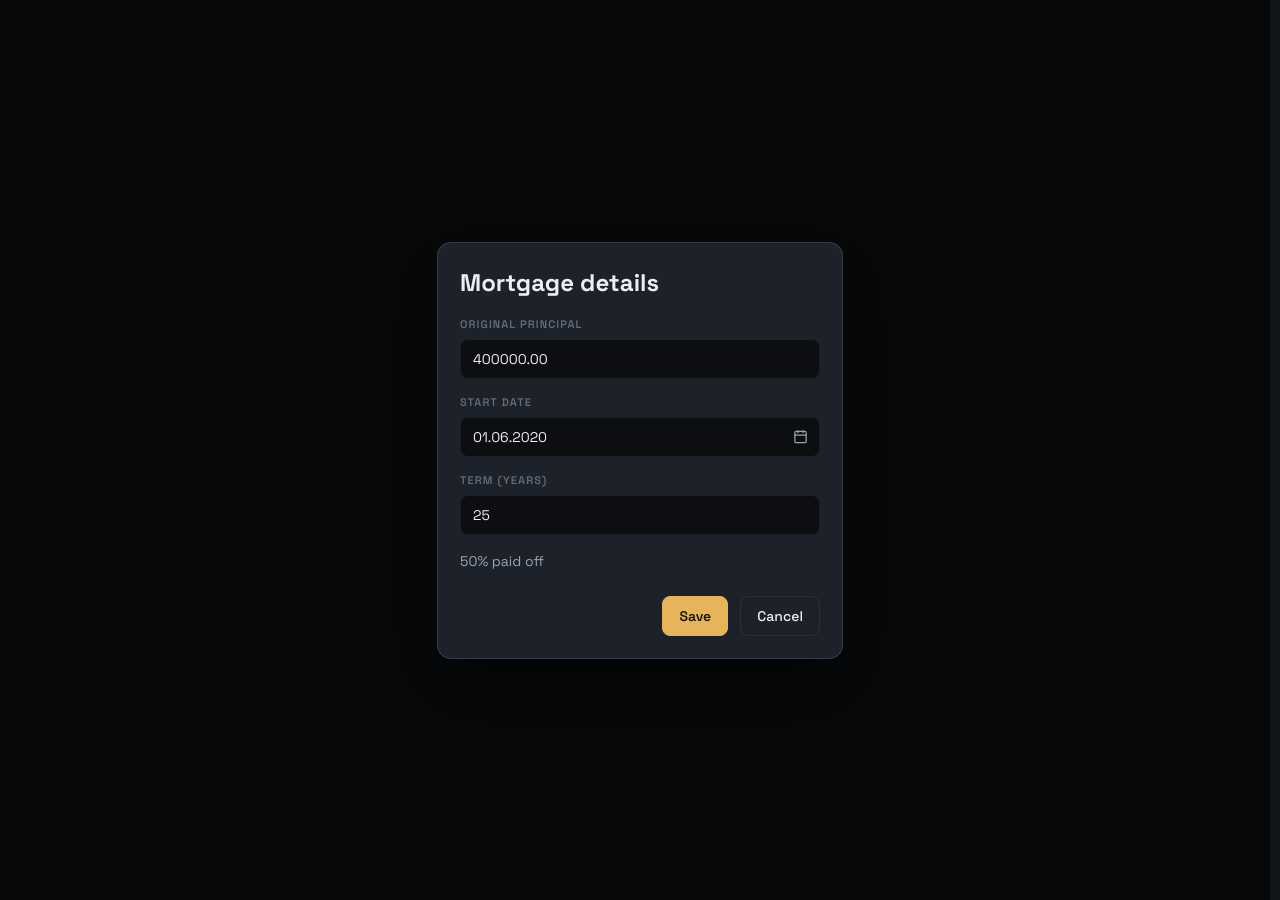
Test: MortgageModal — live percentage preview › updates the preview live as the principal changes
# principal 800k, Restschuld 200k → 75% paid off.
Replace the text in the number field labelled "Original principal" with "800000" at (640, 358), box [460,338,820,378]
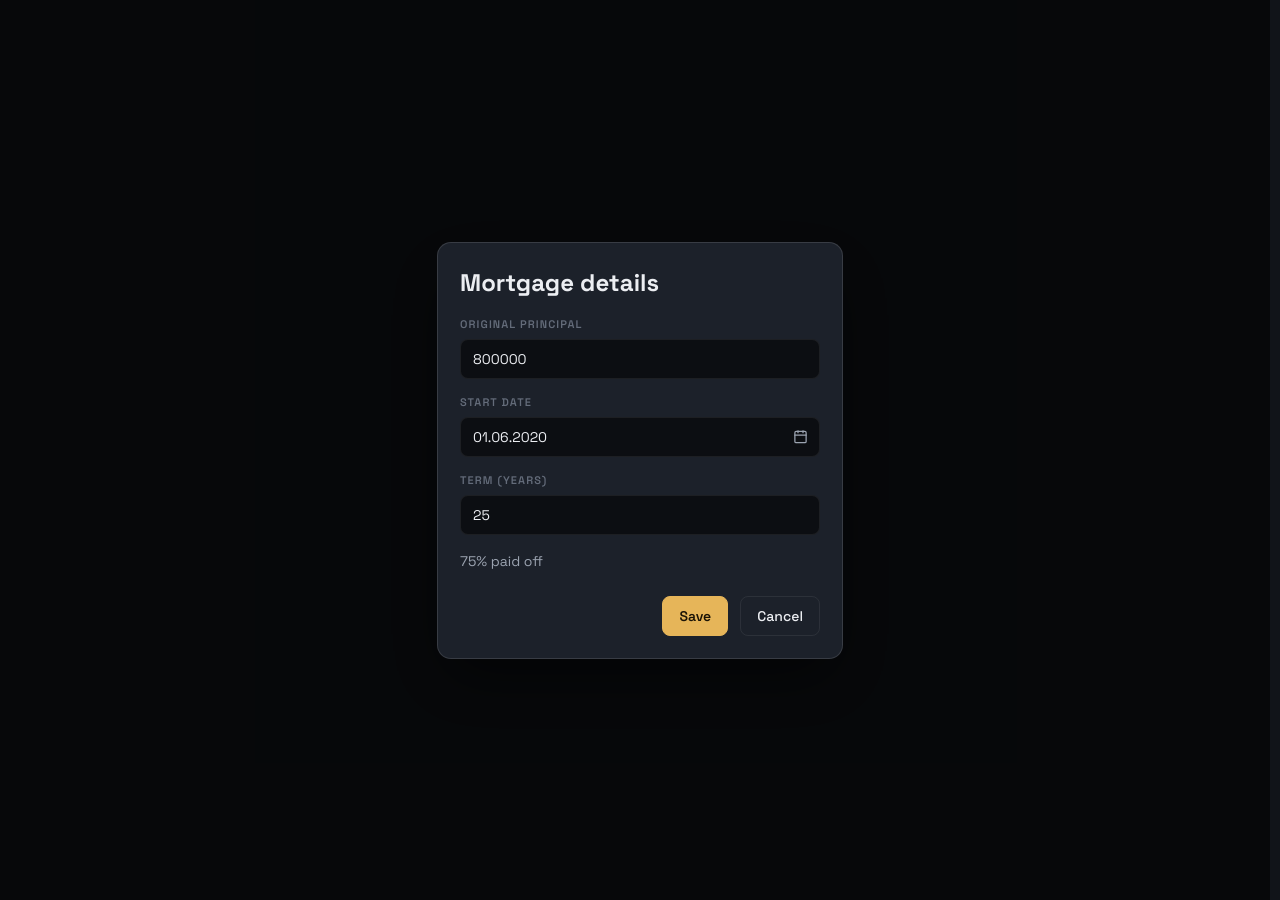
Check: the text "75% paid off" is shown, box [460,552,543,570]
